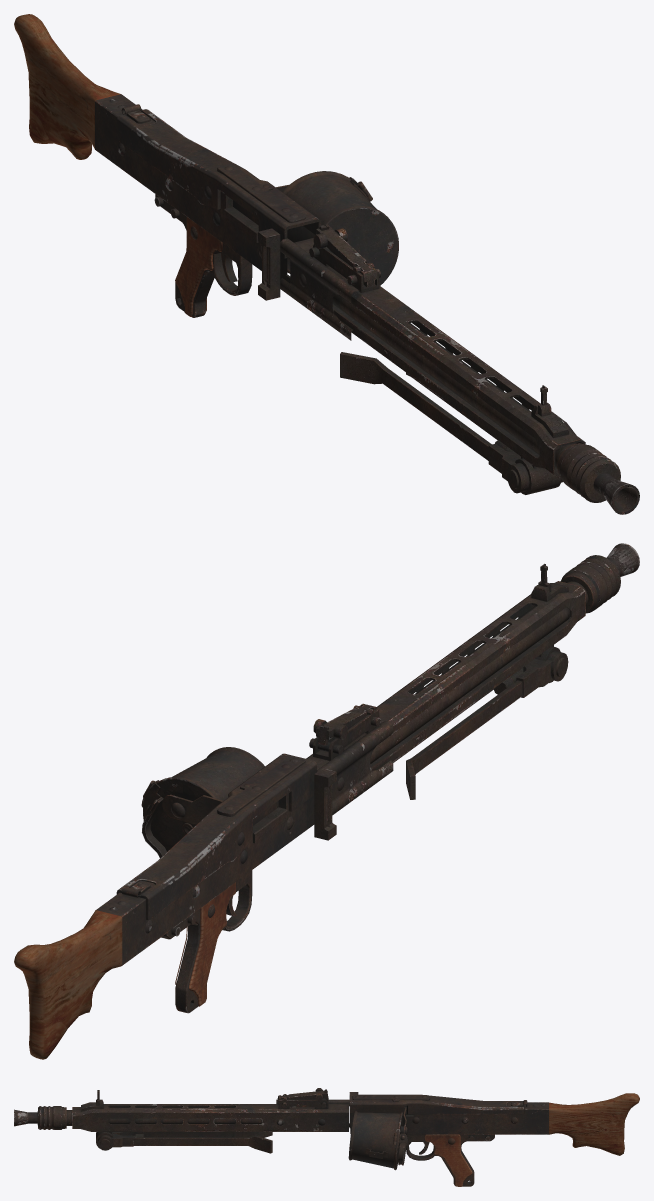
3 views of the same model, one above another, from view 1: azimuth 30°, elevation 25°; view 2: azimuth 150°, elevation 25°; view 3: azimuth 270°, elevation 25° (orthographic). The views are drawn at different scales.
Visible parts, largest first — view 1: Body_checker2k, Body_checker1k; view 2: Body_checker2k, Body_checker1k; view 3: Body_checker2k, Body_checker1k.
Boxes of the visible parts, bbox=[...] form: Body_checker2k: bbox=[14, 14, 398, 317]; Body_checker1k: bbox=[118, 142, 639, 514]; Body_checker2k: bbox=[14, 747, 317, 1059]; Body_checker1k: bbox=[145, 543, 639, 933]; Body_checker2k: bbox=[348, 1093, 639, 1186]; Body_checker1k: bbox=[14, 1088, 367, 1153].
Size of the model in its own units: 0.1775 by 0.2051 by 1.22.
2 materials, 2 textured.
